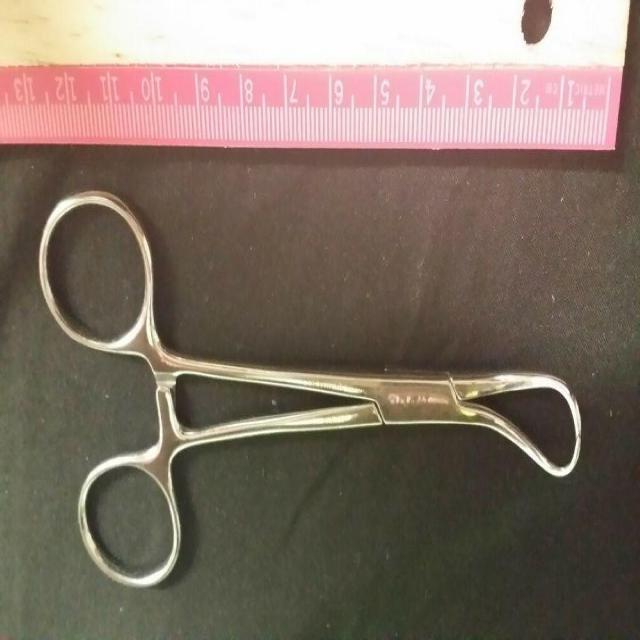Towel_clip: (33, 176, 589, 596)
